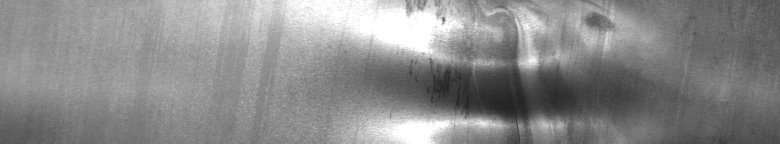ke: (401, 4, 614, 136)
